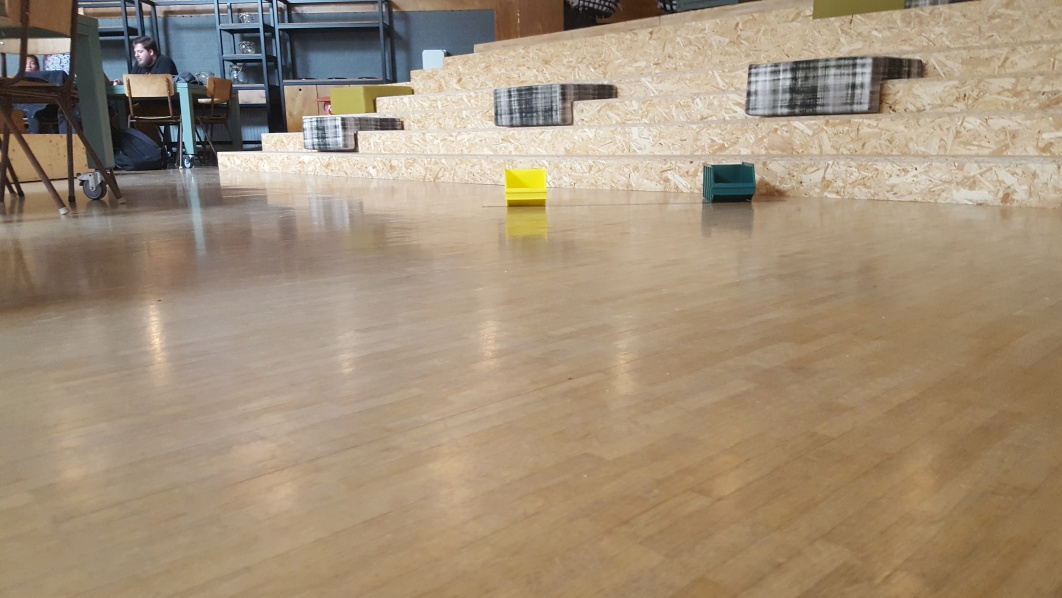tray: (698, 160, 757, 203), (503, 164, 550, 207)
